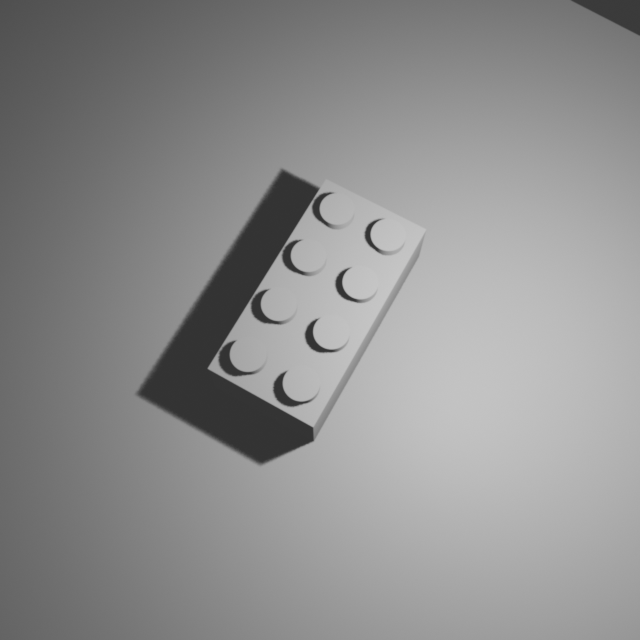lego_2x4: (206, 174, 428, 442)
